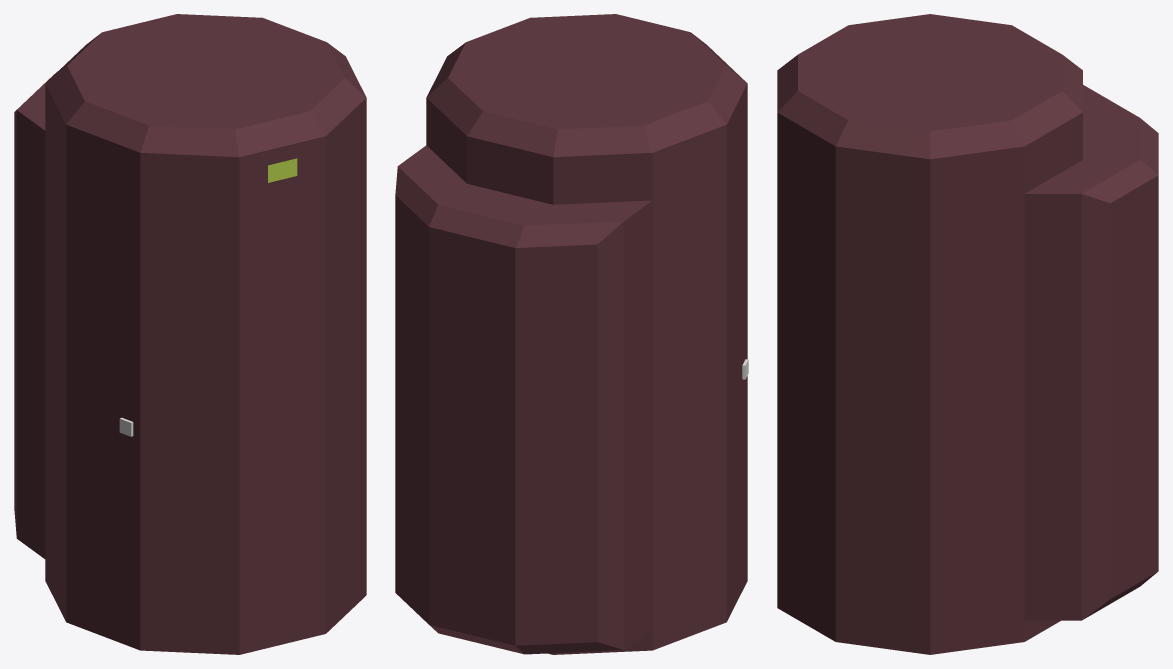
The model's file is scifi-toilet-empty.fbx.
The picture shows the model from 3 angles, left to right: view 1: azimuth 30°, elevation 25°; view 2: azimuth 150°, elevation 25°; view 3: azimuth 270°, elevation 25°; orthographic projection.
Visible parts, largest first — view 1: scifi-toilet-empty; view 2: scifi-toilet-empty; view 3: scifi-toilet-empty.
Boxes of the visible parts, x1=… form: scifi-toilet-empty: x1=14, y1=14, x2=366, y2=654; scifi-toilet-empty: x1=395, y1=14, x2=748, y2=654; scifi-toilet-empty: x1=777, y1=14, x2=1158, y2=654.
Bounding box in the file's own units: 1.37 × 2.41 × 1.62.
